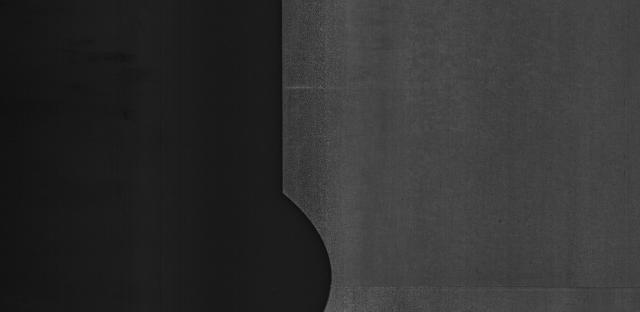welding_line: (327, 279, 640, 300)
